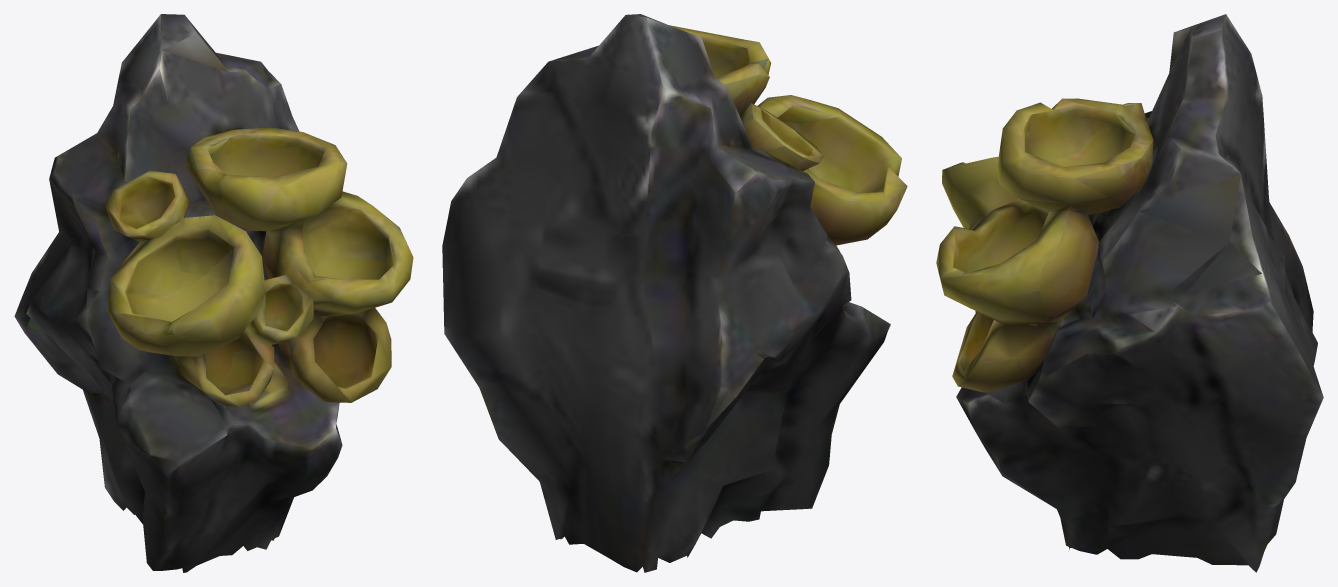
Rendered from cogu_falso_ouro.glb.
3 renders of one model, left to right at view 1: azimuth 30°, elevation 25°; view 2: azimuth 150°, elevation 25°; view 3: azimuth 270°, elevation 25°, orthographic. The views are drawn at different scales.
Visible parts, largest first — view 1: geometry_0; view 2: geometry_0; view 3: geometry_0.
Boxes of the visible parts, bbox=[...] form: geometry_0: bbox=[14, 14, 413, 572]; geometry_0: bbox=[442, 14, 907, 572]; geometry_0: bbox=[936, 14, 1323, 572].
Size of the model in its own units: 0.6385 by 1 by 0.6708.
Materials: 1 (1 with a texture image).
